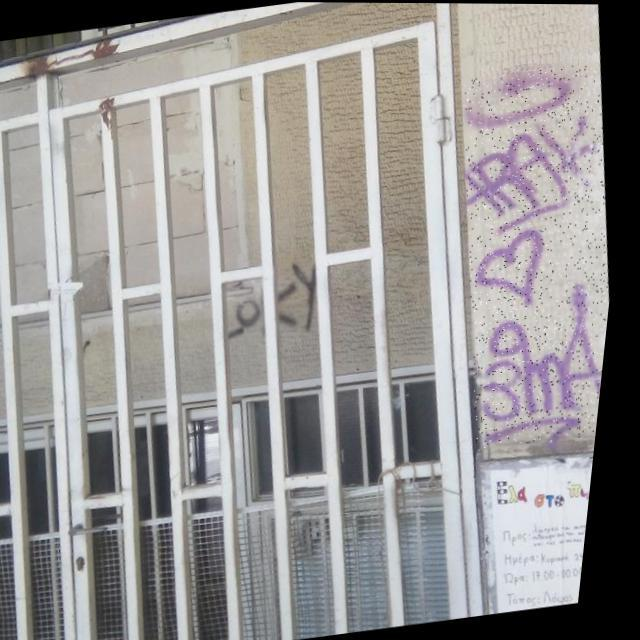-: (434, 61, 636, 450), (222, 258, 334, 347)
